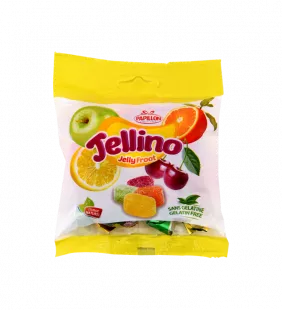JELLINO PAPILLON: (44, 44, 237, 268)
